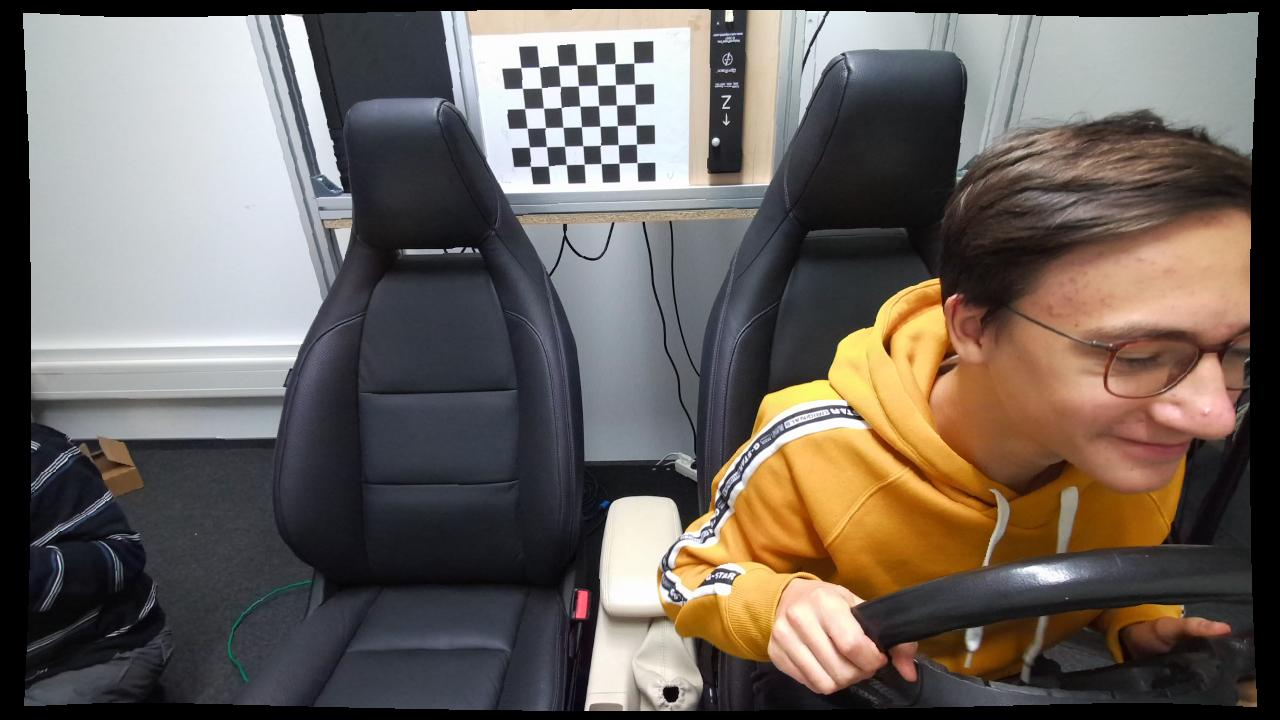Distracted: (658, 111, 1251, 713)
